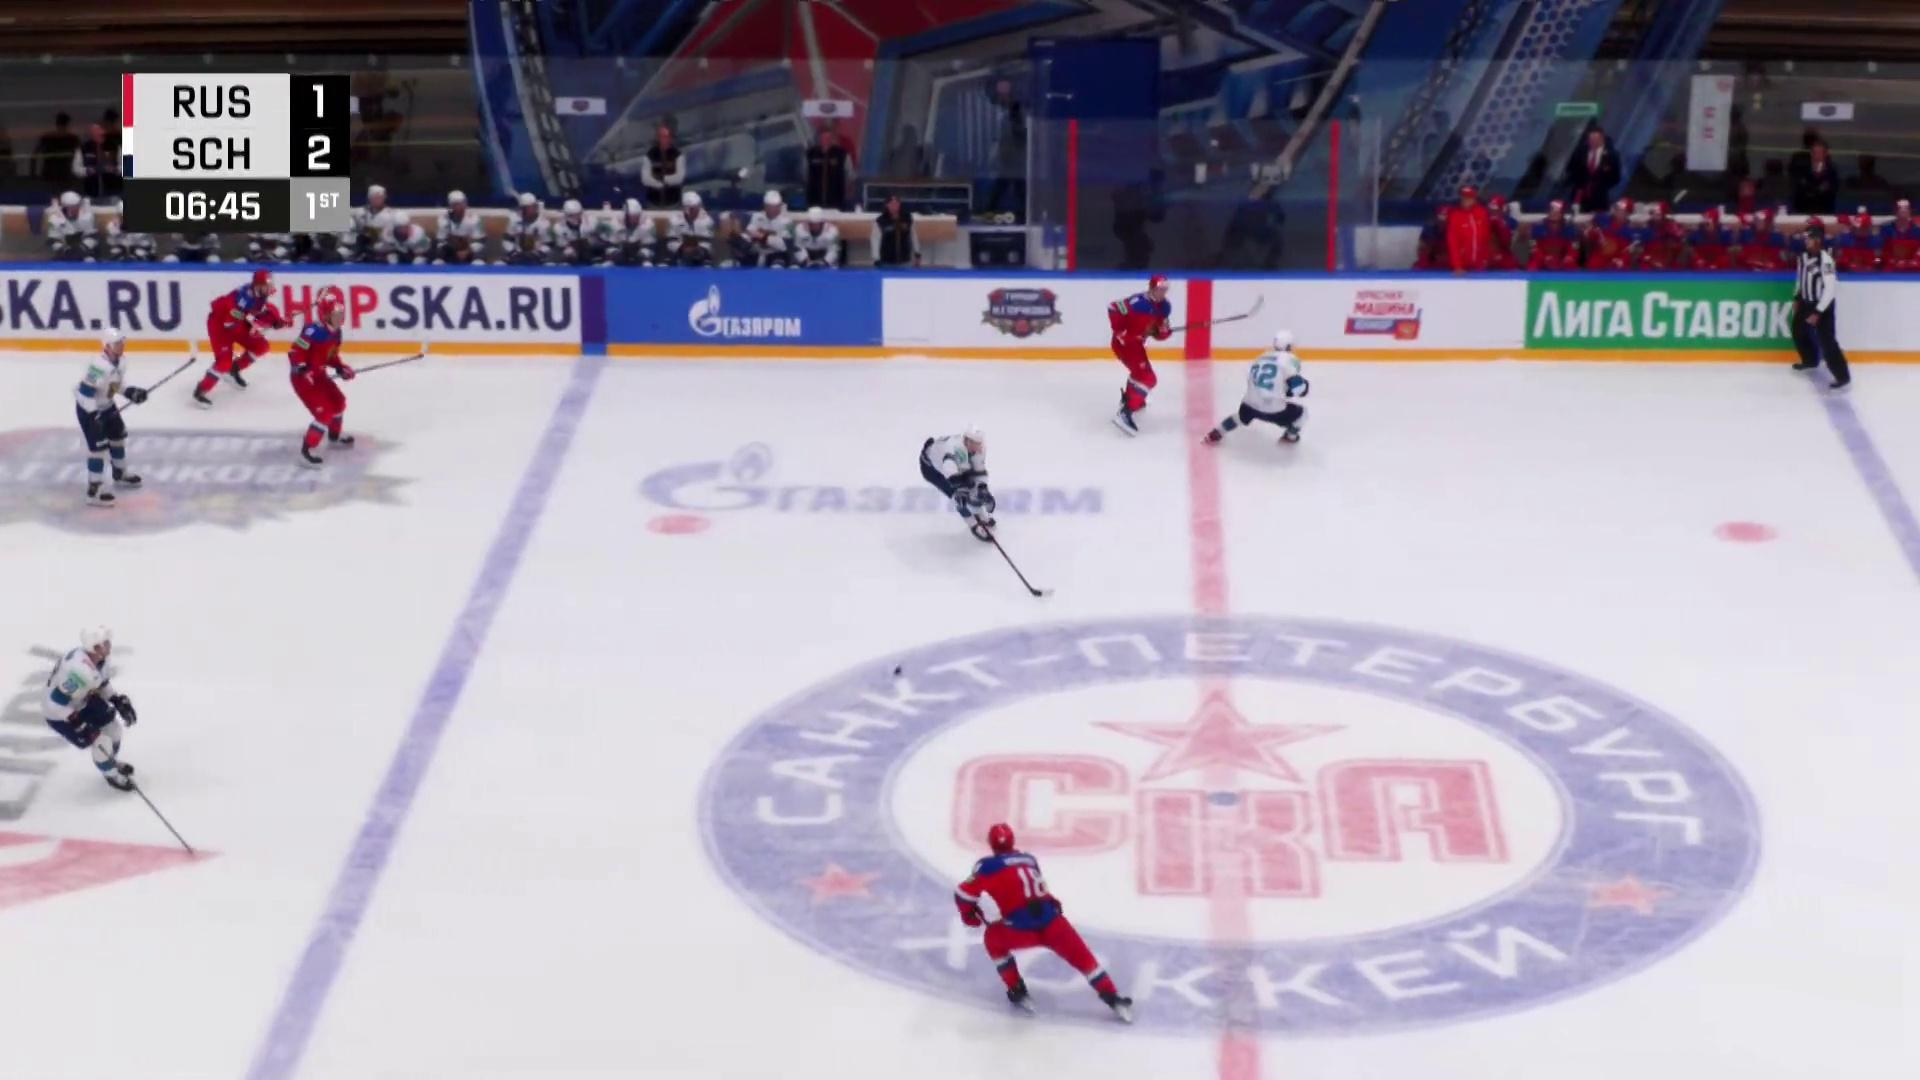ball: (893, 665, 902, 676)
